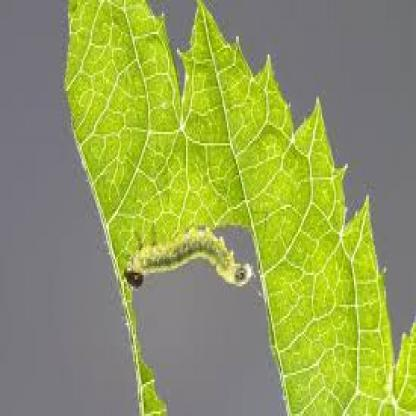sawfly: (123, 224, 259, 291)
